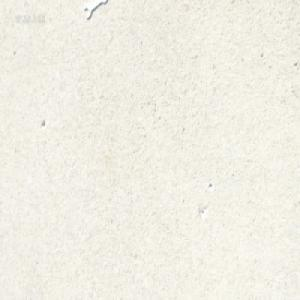Wrench: (84, 0, 107, 19)
